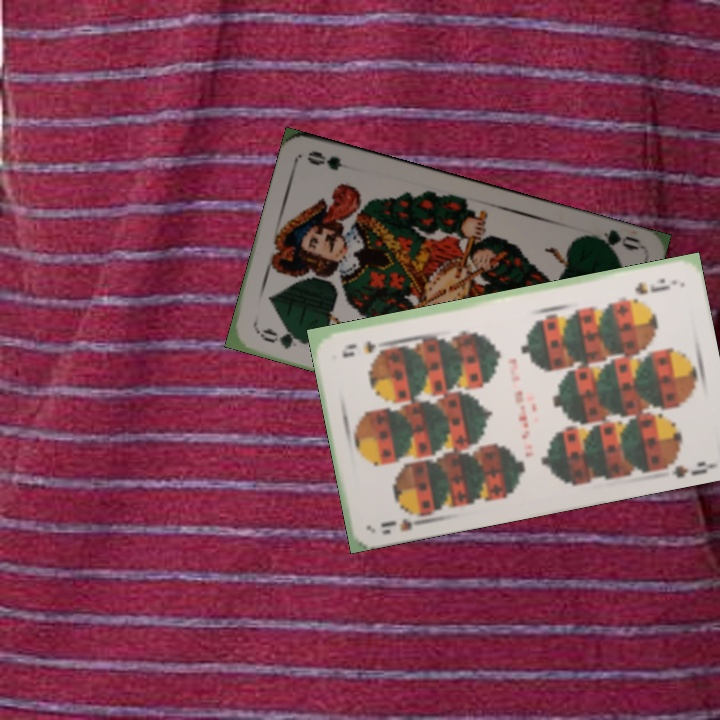GO: (581, 225, 643, 254), (254, 324, 313, 352)
S9: (376, 510, 430, 534), (630, 273, 668, 297)
